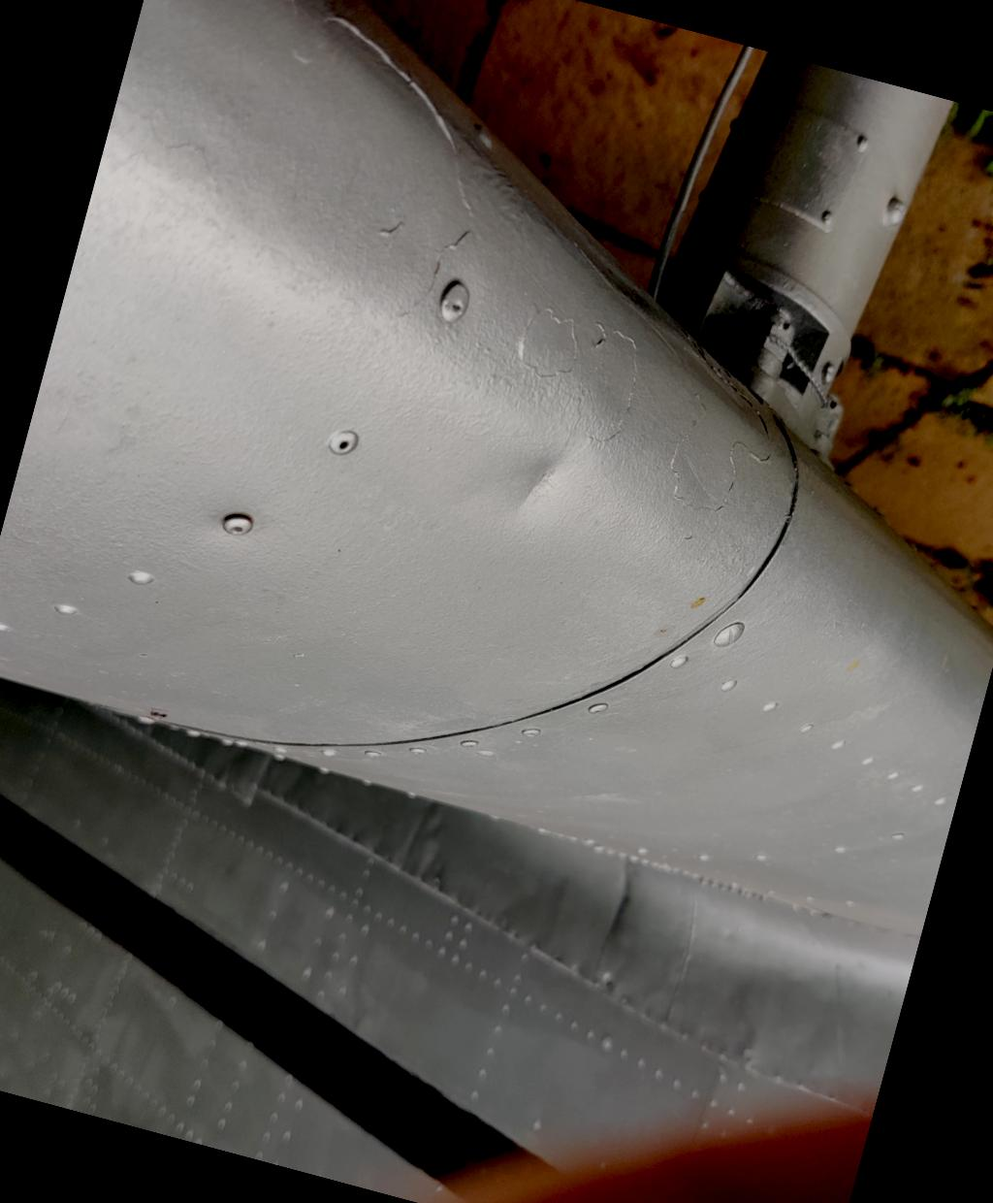dent: (466, 407, 602, 545)
